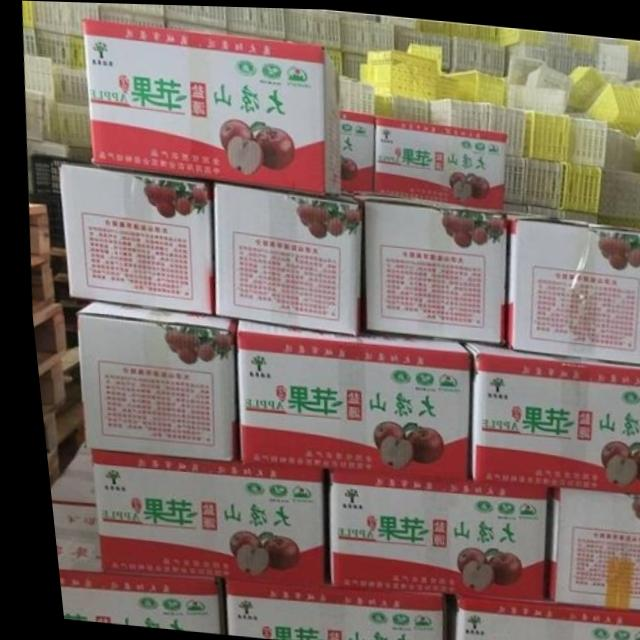box: (82, 16, 338, 194), (230, 318, 464, 478), (82, 448, 313, 582), (317, 467, 538, 596), (454, 340, 640, 491), (68, 300, 232, 459), (348, 191, 503, 343), (54, 163, 210, 313), (207, 181, 359, 334), (498, 211, 640, 361), (213, 577, 434, 640), (533, 483, 640, 607), (369, 113, 505, 209), (46, 568, 212, 631), (434, 592, 640, 640), (41, 501, 87, 572), (337, 106, 373, 192), (40, 447, 85, 504)
